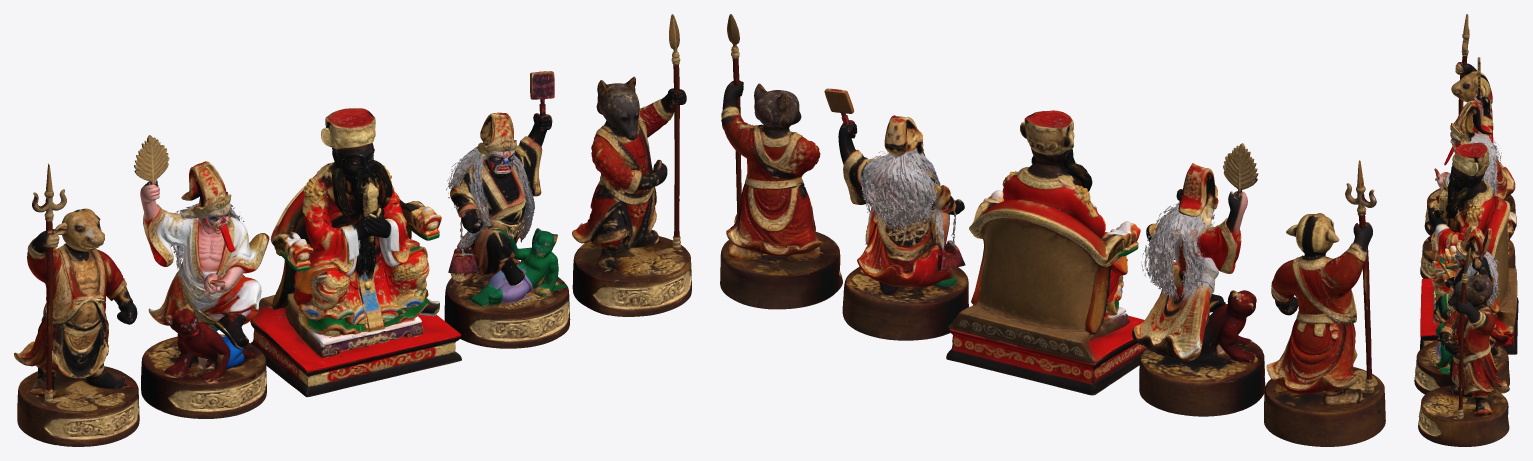
The model's file is taoistrow.glb.
3 renders of one model, left to right at view 1: azimuth 30°, elevation 25°; view 2: azimuth 150°, elevation 25°; view 3: azimuth 270°, elevation 25°, orthographic. The views are drawn at different scales.
Parts seen in each view (by area): view 1: taoistrow_near, taoistrow_far; view 2: taoistrow_near, taoistrow_far; view 3: taoistrow_near, taoistrow_far.
Boxes of the visible parts, x1,y1,x2,y2 form: taoistrow_near: (14,14,691,446); taoistrow_far: (15,14,691,446); taoistrow_near: (720,14,1385,446); taoistrow_far: (720,14,1385,446); taoistrow_near: (1414,14,1518,446); taoistrow_far: (1415,16,1518,446).
Bounding box in the file's own units: 1.9 × 0.7429 × 0.3488.
1 material, 1 textured.
